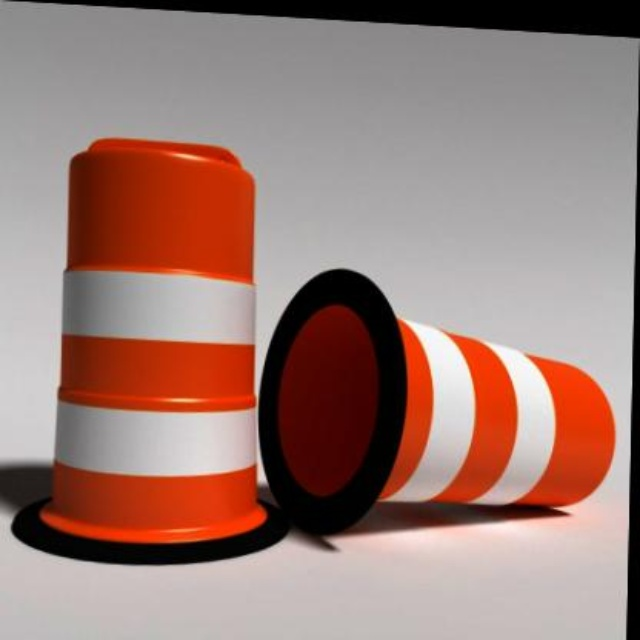obstacle: (24, 136, 281, 553), (265, 262, 636, 546)
